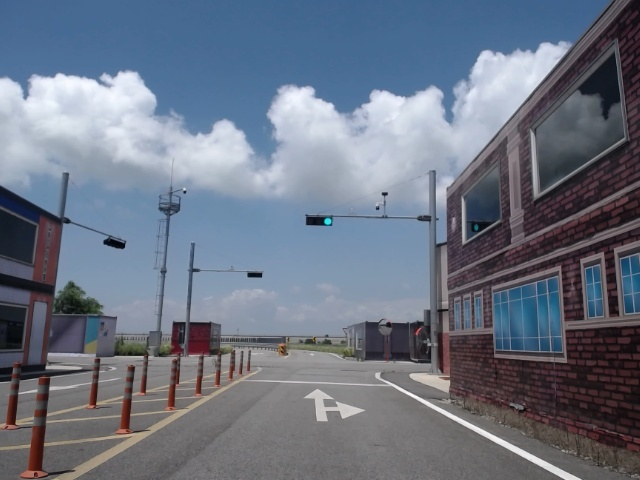green_3: (307, 216, 333, 225)
